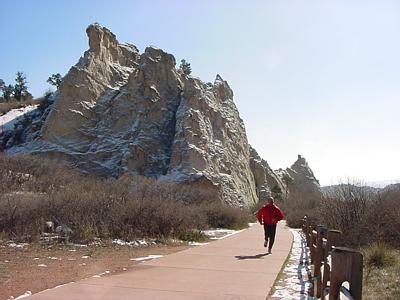person: (260, 202, 284, 252)
